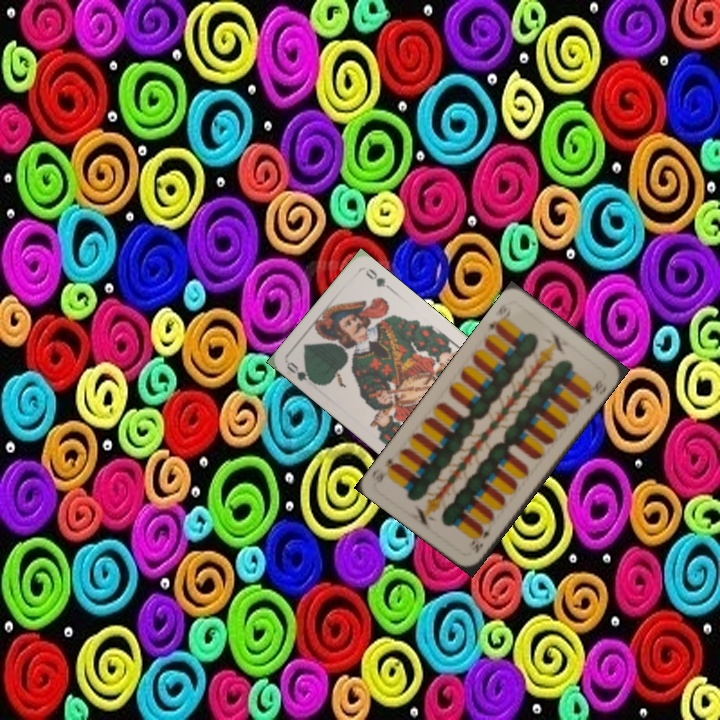E10: (484, 301, 514, 336), (468, 521, 495, 556)
GO: (282, 358, 320, 387)
